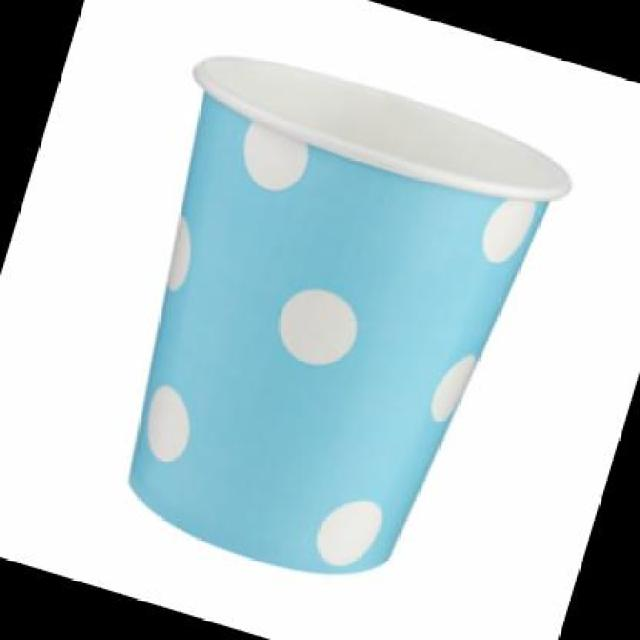non-biodegradable: (62, 7, 580, 611)
